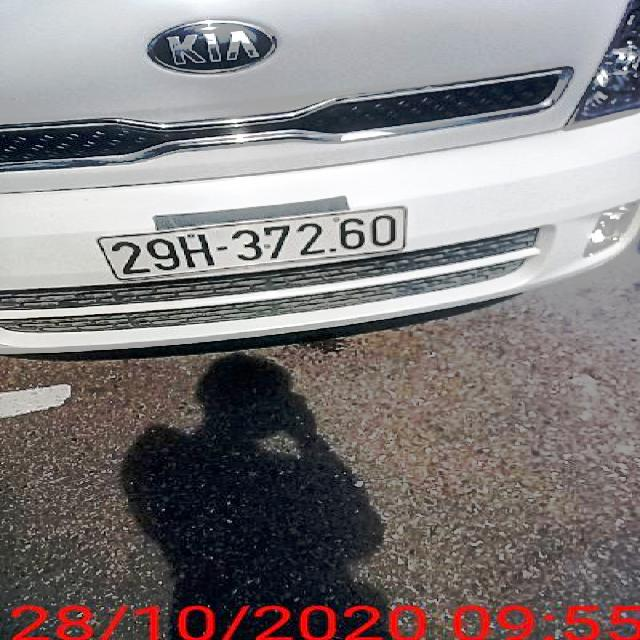license_plate: (97, 207, 408, 282)
